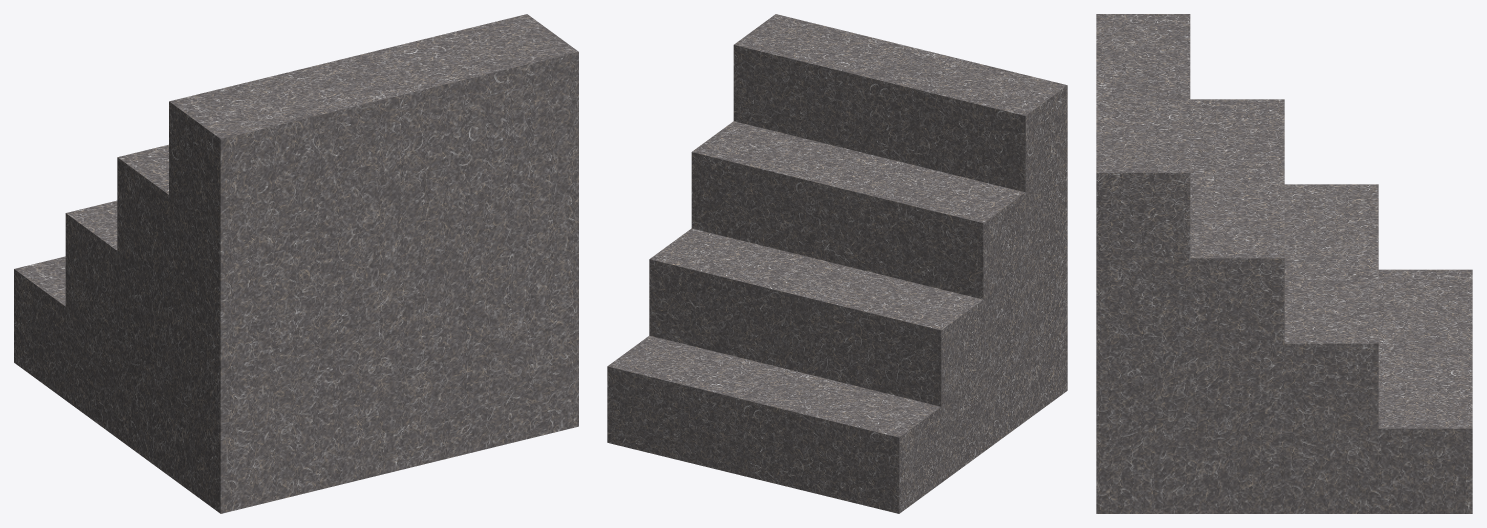
Rendered from STAIR.glb.
3 renders of one model, left to right at view 1: azimuth 30°, elevation 25°; view 2: azimuth 150°, elevation 25°; view 3: azimuth 270°, elevation 25°, orthographic. The views are drawn at different scales.
Parts seen in each view (by area): view 1: [OBJ] Stair; view 2: [OBJ] Stair; view 3: [OBJ] Stair.
Part boxes in pixels (bbox=[...]): [OBJ] Stair: bbox=[14, 14, 578, 513]; [OBJ] Stair: bbox=[607, 14, 1067, 513]; [OBJ] Stair: bbox=[1096, 14, 1472, 513].
Bounding box in the file's own units: 2 × 2 × 2.
1 material, 1 textured.
